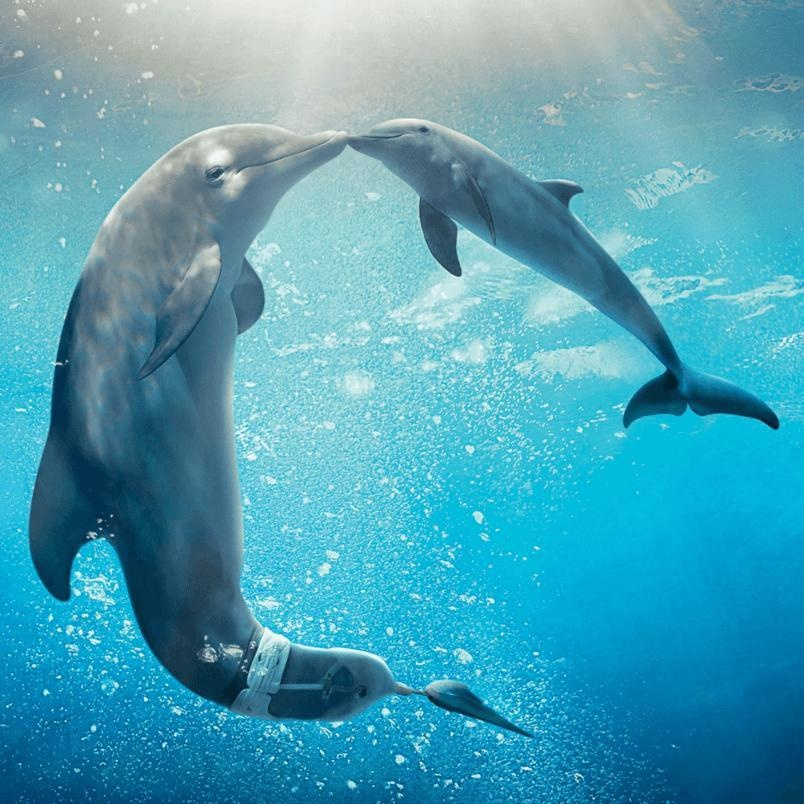fish: (31, 121, 529, 735), (333, 95, 788, 443)
